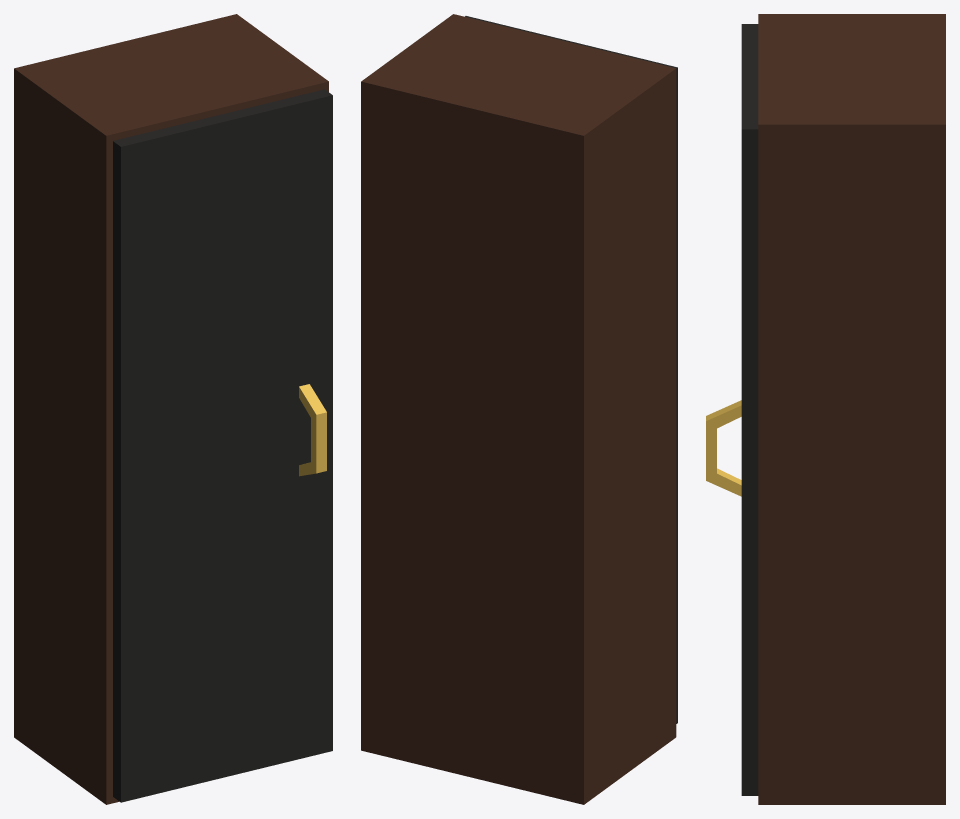
The model's file is WardRobe_4B.fbx.
3 views of the same model, side by side, from view 1: azimuth 30°, elevation 25°; view 2: azimuth 150°, elevation 25°; view 3: azimuth 270°, elevation 25° (orthographic).
Parts seen in each view (by area): view 1: polySurface1830; view 2: polySurface1830; view 3: polySurface1830.
Boxes of the visible parts, <box> form: polySurface1830: <box>14,14,332,804</box>; polySurface1830: <box>361,14,677,804</box>; polySurface1830: <box>706,14,945,804</box>.
Bounding box in the file's own units: 1.18 × 3.4 × 1.09.
Materials: 1 (1 with a texture image).
